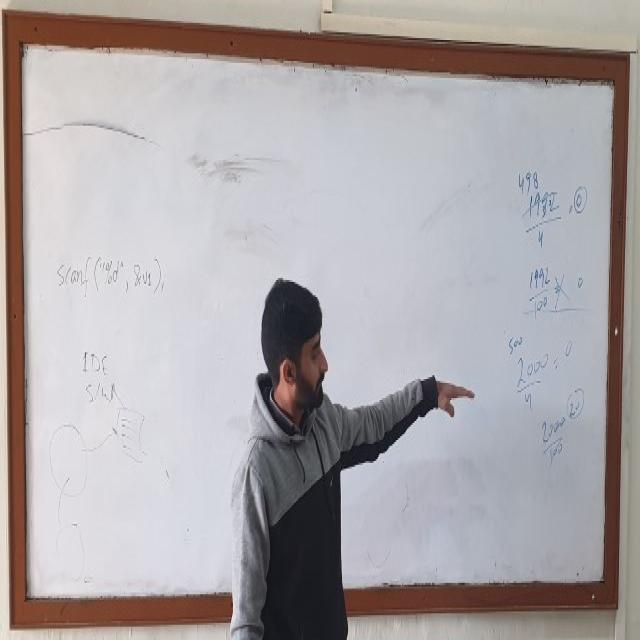Instructor: (233, 266, 357, 634)
White-board: (10, 29, 620, 611)
